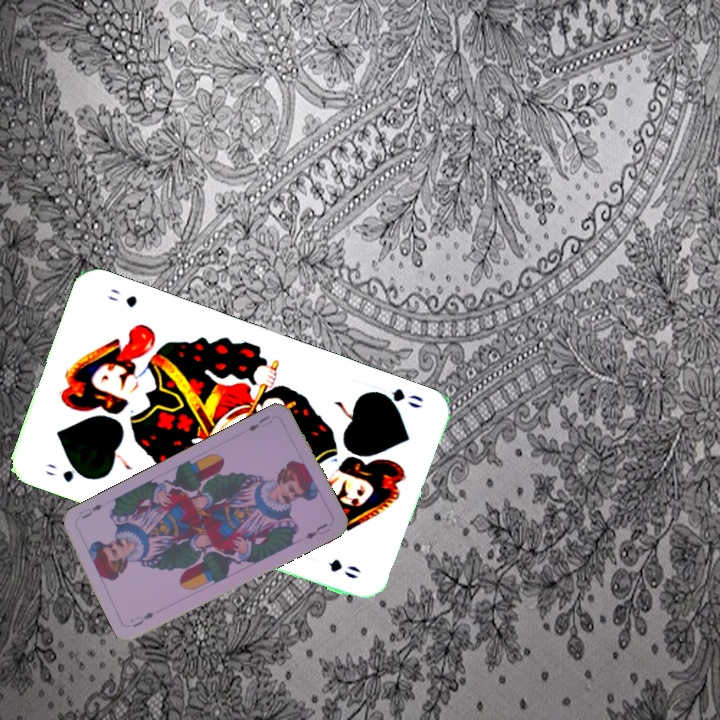EU: (244, 411, 275, 434), (127, 608, 157, 630)
GO: (369, 384, 426, 412), (42, 459, 92, 485)
